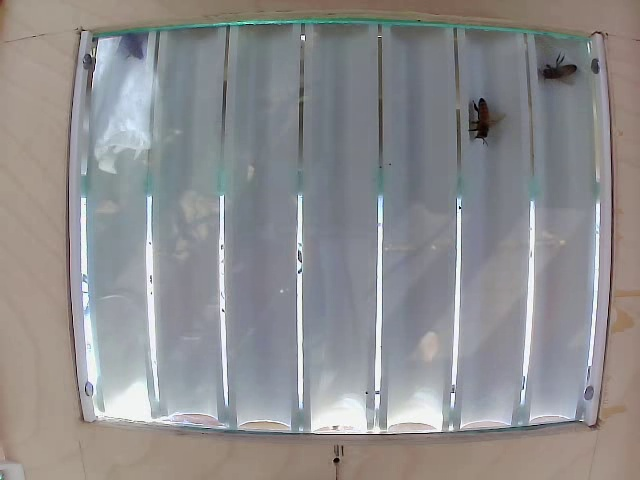bee: (533, 50, 593, 98), (459, 94, 504, 156)
